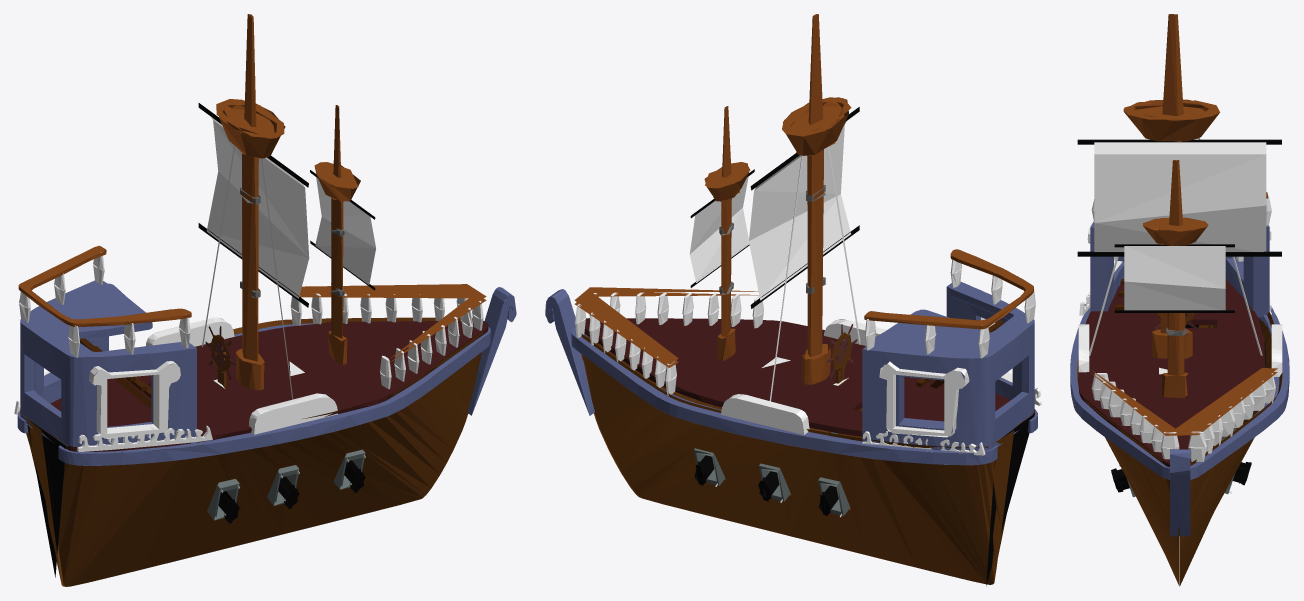
Rendered from Bateau Bleu.fbx.
3 renders of one model, left to right at view 1: azimuth 30°, elevation 25°; view 2: azimuth 150°, elevation 25°; view 3: azimuth 270°, elevation 25°, orthographic. The views are drawn at different scales.
Parts seen in each view (by area): view 1: Obj_000086, Obj_000034, Obj_000078, Obj_000124, Obj_000058, Obj_000076, Obj_000054, Obj_000111, Obj_000036, Obj_000130, Obj_000069, Obj_000125 (+11 smaller); view 2: Obj_000052, Obj_000034, Obj_000078, Obj_000124, Obj_000057, Obj_000076, Obj_000054, Obj_000111, Obj_000130, Obj_000069, Obj_000035, Obj_000125 (+10 smaller); view 3: Obj_000124, Obj_000034, Obj_000130, Obj_000052, Obj_000078, Obj_000086, Obj_000125, Obj_000111, Obj_000057, Obj_000058, Obj_000056, Obj_000053 (+15 smaller).
Part boxes in pixels (x1,y1,x2,y2): Obj_000086: (44, 324, 488, 586); Obj_000034: (50, 321, 488, 451); Obj_000078: (20, 280, 196, 453); Obj_000124: (206, 117, 309, 298); Obj_000058: (58, 327, 490, 465); Obj_000076: (29, 283, 185, 357); Obj_000054: (242, 154, 258, 364); Obj_000111: (300, 284, 486, 362); Obj_000036: (89, 361, 180, 438); Obj_000130: (315, 177, 375, 284); Obj_000069: (18, 245, 191, 326); Obj_000125: (216, 99, 285, 158); Obj_000052: (575, 326, 1014, 584); Obj_000034: (584, 318, 1034, 436); Obj_000078: (862, 282, 1034, 452); Obj_000124: (749, 121, 850, 300); Obj_000057: (571, 327, 997, 465); Obj_000076: (874, 285, 1026, 358); Obj_000054: (807, 149, 823, 359); Obj_000111: (574, 287, 758, 367); Obj_000130: (689, 176, 749, 282); Obj_000069: (864, 249, 1033, 329); Obj_000035: (879, 361, 969, 437); Obj_000125: (782, 97, 851, 155); Obj_000124: (1094, 142, 1266, 251); Obj_000034: (1078, 279, 1266, 467); Obj_000130: (1124, 246, 1225, 310); Obj_000052: (1180, 311, 1282, 585); Obj_000078: (1090, 221, 1269, 317); Obj_000086: (1077, 312, 1179, 586); Obj_000125: (1123, 99, 1219, 141); Obj_000111: (1091, 368, 1277, 435); Obj_000057: (1190, 307, 1289, 479); Obj_000058: (1070, 307, 1169, 479); Obj_000056: (1170, 449, 1190, 536); Obj_000053: (1162, 14, 1183, 115).
Bounding box in the file's own units: 58.47 × 62.98 × 25.32.
